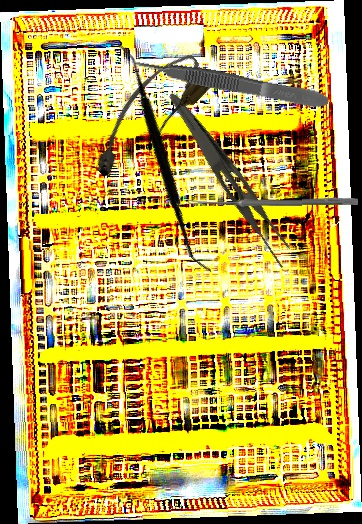Cannula: (75, 45, 218, 184)
Dressing Forceps: (149, 90, 306, 272)
Spatula Surgical: (42, 41, 286, 274)
Surgical Spoon: (187, 196, 359, 208)
Tissue Forceps: (133, 51, 330, 113)
